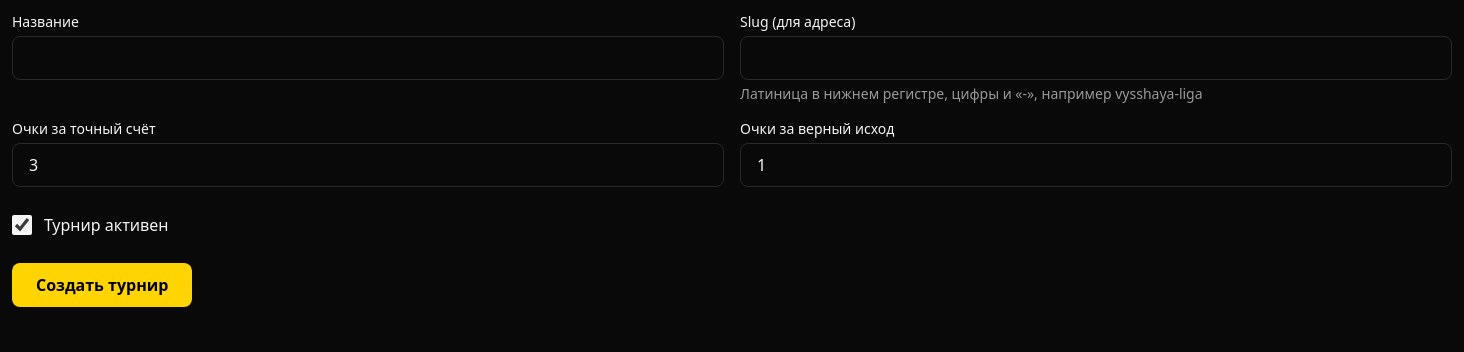
TournamentForm › shows field errors and sends nothing for invalid input
Type "Кубок" into the field labelled "Название".
click(368, 58); type("Кубок")  # box [12,36,724,80]
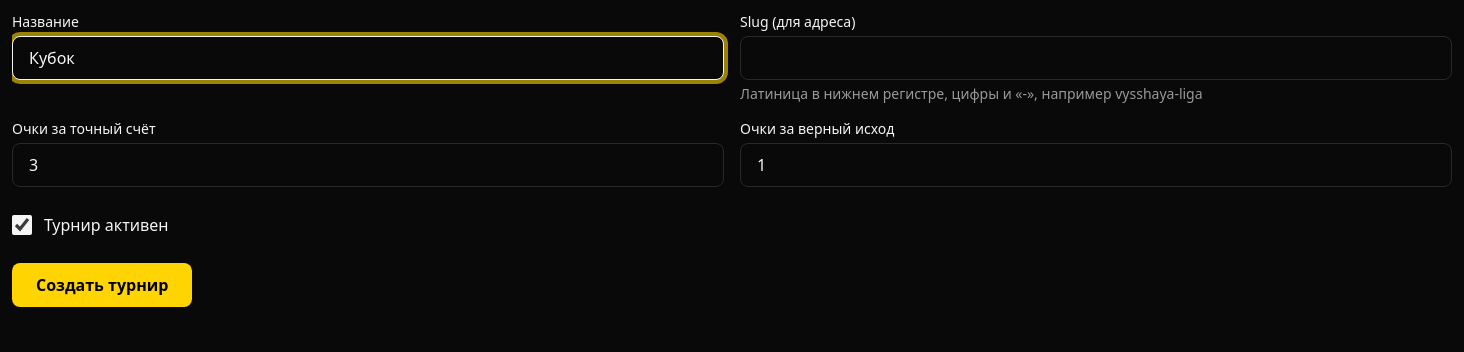
Type "Bad Slug" into the field labelled "Slug (для адреса)".
click(1096, 58); type("Bad Slug")  # box [740,36,1452,80]
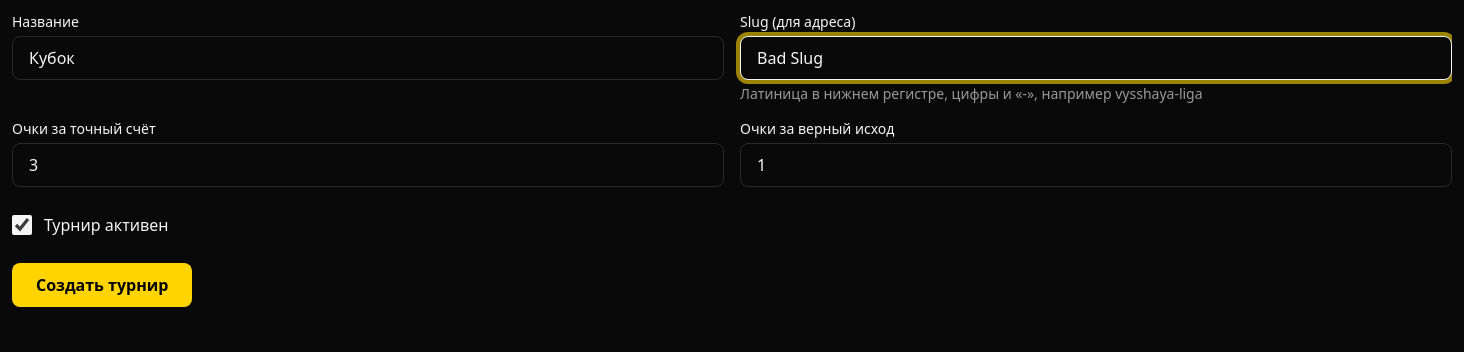
Click the button "Создать турнир".
click(102, 285)  # box [12,263,192,307]
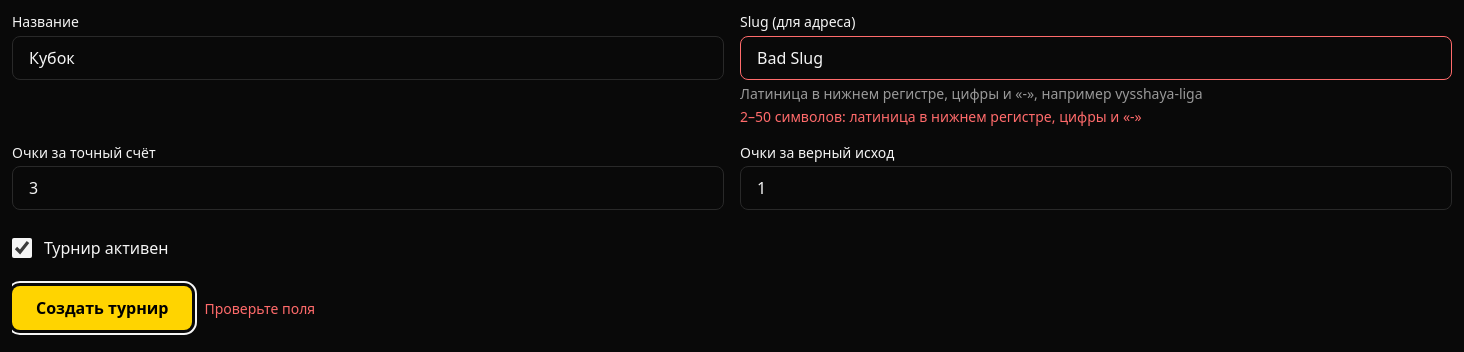
expect the text "2–50 символов: латиница в нижнем регистре, цифры и «-»" is shown: met, box [740,107,1142,126]
